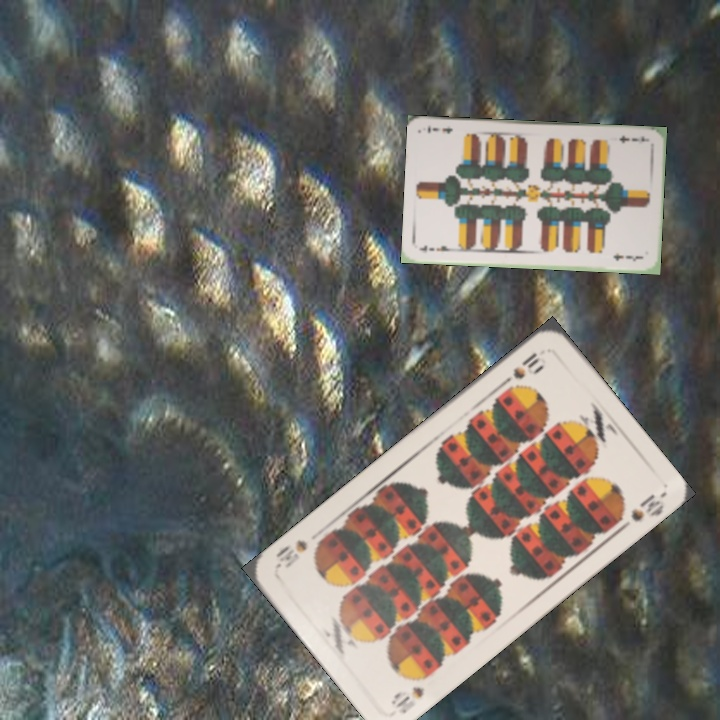E7: (615, 131, 650, 146), (416, 241, 456, 254)
S10: (386, 669, 434, 717), (498, 348, 546, 388)
